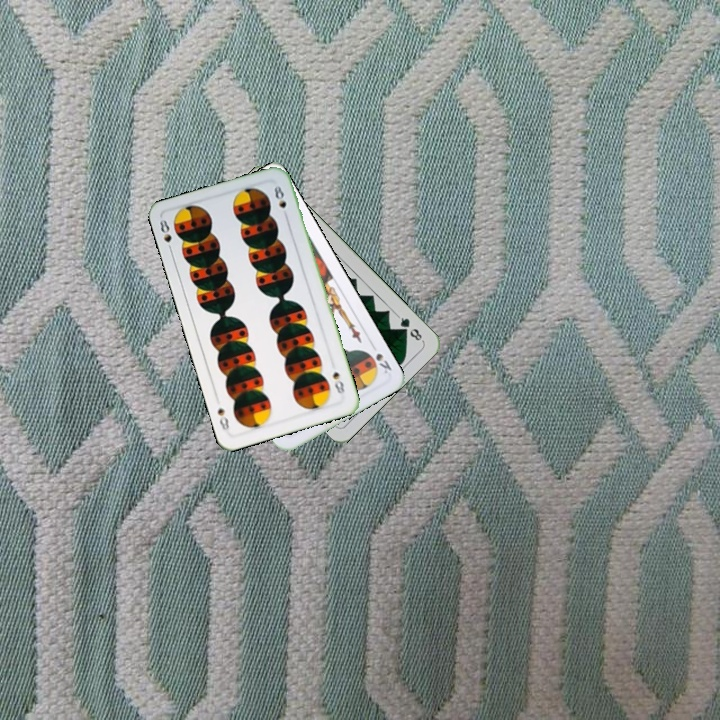G8: (394, 312, 426, 345)
S8: (156, 216, 175, 255), (328, 368, 347, 396)
SK: (372, 349, 394, 377)
